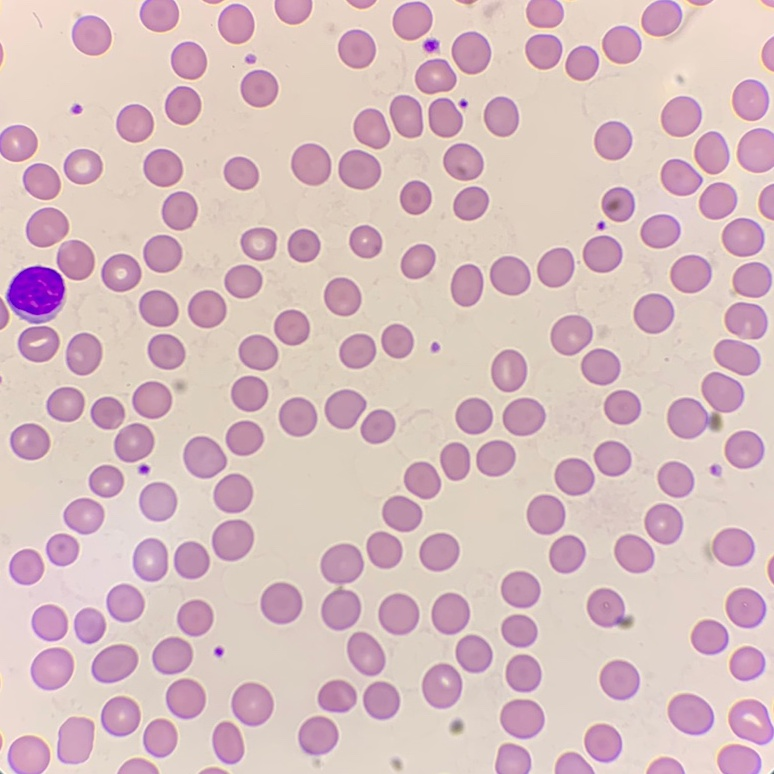RBC: (667, 372, 744, 438), (6, 266, 64, 323), (703, 528, 754, 566), (587, 588, 633, 628), (422, 664, 461, 708), (668, 694, 712, 733), (92, 644, 137, 682), (184, 436, 225, 477), (31, 648, 72, 689), (232, 683, 272, 725), (500, 699, 543, 738), (714, 339, 760, 375), (212, 520, 253, 560), (261, 582, 301, 623), (321, 544, 363, 583), (321, 588, 360, 630), (347, 632, 385, 675), (661, 96, 701, 136), (726, 588, 766, 628), (378, 594, 418, 634), (291, 144, 330, 185), (551, 315, 592, 354), (338, 150, 380, 188), (26, 208, 68, 246), (722, 218, 764, 256), (58, 718, 93, 763), (298, 716, 337, 756), (452, 32, 490, 73), (634, 294, 673, 333), (600, 660, 639, 699), (166, 679, 205, 718), (490, 256, 530, 294), (325, 390, 365, 428), (503, 398, 544, 435), (432, 593, 469, 634), (72, 15, 110, 54), (114, 423, 153, 461), (101, 697, 139, 736), (671, 255, 711, 292), (614, 535, 654, 572), (152, 637, 192, 674), (725, 302, 766, 338), (738, 129, 773, 171), (214, 474, 252, 512), (143, 149, 182, 186), (57, 240, 94, 279), (101, 254, 140, 291), (725, 431, 764, 468), (527, 495, 564, 534), (645, 504, 682, 543), (661, 159, 701, 195), (66, 333, 101, 374), (491, 350, 526, 391), (133, 539, 167, 581), (393, 2, 431, 39), (603, 26, 641, 63), (143, 235, 181, 272), (537, 248, 574, 286), (279, 398, 316, 436), (555, 458, 593, 495), (139, 482, 176, 520), (420, 533, 458, 570), (107, 584, 144, 622), (583, 236, 622, 272), (132, 382, 171, 418), (10, 423, 49, 459), (18, 326, 58, 361), (338, 30, 375, 67), (116, 104, 153, 141), (324, 278, 361, 315), (188, 290, 225, 327), (595, 121, 631, 159), (444, 143, 482, 179), (139, 290, 177, 326), (501, 571, 539, 607), (363, 681, 399, 719), (642, 0, 681, 35), (218, 4, 253, 43), (733, 80, 768, 119), (354, 109, 389, 148), (476, 440, 515, 475), (382, 496, 421, 531), (64, 498, 103, 533), (415, 59, 455, 93), (695, 132, 728, 173), (390, 95, 422, 137), (549, 535, 585, 572), (456, 635, 492, 672), (585, 724, 621, 761), (165, 86, 200, 124), (581, 349, 619, 384), (506, 654, 541, 692), (484, 97, 518, 136), (241, 70, 277, 106), (0, 125, 36, 161), (23, 163, 59, 199), (404, 462, 440, 498), (162, 192, 197, 229), (428, 98, 462, 136), (64, 149, 102, 183), (733, 262, 771, 296), (239, 335, 277, 369), (451, 264, 482, 305), (212, 722, 243, 763), (171, 42, 206, 78), (700, 183, 736, 218), (148, 334, 184, 369), (231, 376, 267, 411), (456, 398, 492, 433), (174, 542, 209, 578), (177, 600, 212, 636), (46, 387, 83, 421), (594, 441, 631, 475), (691, 620, 728, 654), (641, 215, 680, 247), (658, 462, 693, 497), (32, 605, 67, 640), (339, 334, 375, 368), (604, 390, 640, 424), (226, 421, 262, 455), (367, 532, 401, 568), (143, 719, 176, 756), (318, 680, 356, 712), (526, 34, 561, 68), (274, 310, 309, 344), (9, 549, 43, 584), (140, 0, 178, 31), (361, 409, 395, 443), (453, 187, 488, 220), (225, 265, 261, 297), (501, 615, 537, 647), (401, 244, 434, 278), (730, 647, 764, 680), (224, 157, 258, 189), (602, 187, 634, 221), (241, 228, 275, 260), (89, 465, 123, 497), (566, 46, 598, 79), (91, 397, 124, 429), (74, 608, 105, 642), (440, 443, 469, 479), (400, 181, 431, 214), (382, 324, 413, 357), (350, 225, 381, 257), (288, 229, 319, 261), (46, 534, 78, 565), (496, 744, 530, 773), (527, 0, 563, 27), (275, 0, 311, 23), (555, 753, 592, 773), (731, 700, 759, 725), (119, 759, 157, 773), (648, 758, 682, 773), (759, 185, 773, 218), (762, 39, 773, 69), (0, 302, 8, 327), (423, 38, 438, 51), (450, 719, 463, 733), (351, 0, 372, 7), (174, 380, 186, 392), (483, 5, 494, 15), (711, 465, 721, 475), (204, 768, 221, 773), (392, 759, 401, 768), (768, 561, 773, 577), (139, 465, 148, 473), (694, 0, 706, 4), (766, 0, 773, 5)
